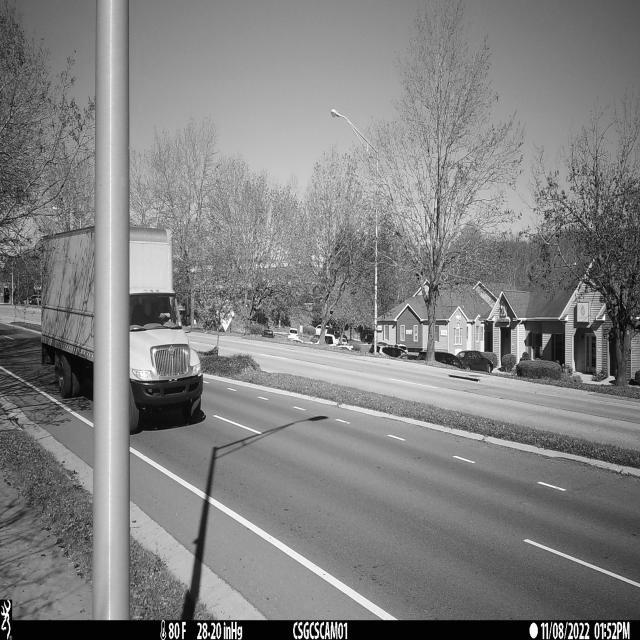Box Truck: (128, 226, 203, 434), (40, 227, 95, 398)
